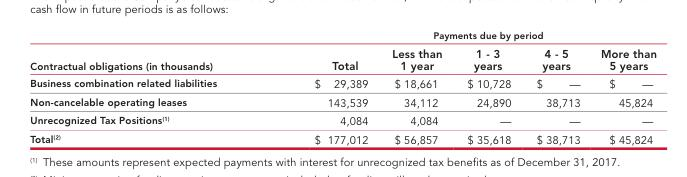table: (29, 28, 655, 145)
table column: (29, 28, 265, 145), (265, 28, 379, 145), (379, 28, 454, 145), (454, 28, 523, 145), (523, 28, 589, 145), (589, 28, 655, 145)
table column header: (29, 28, 655, 74)
table row: (29, 43, 655, 74), (29, 92, 655, 111), (29, 74, 655, 92), (29, 111, 655, 129), (29, 129, 655, 145), (29, 28, 655, 43)
table spanning cell: (29, 28, 265, 74), (265, 28, 655, 43)
